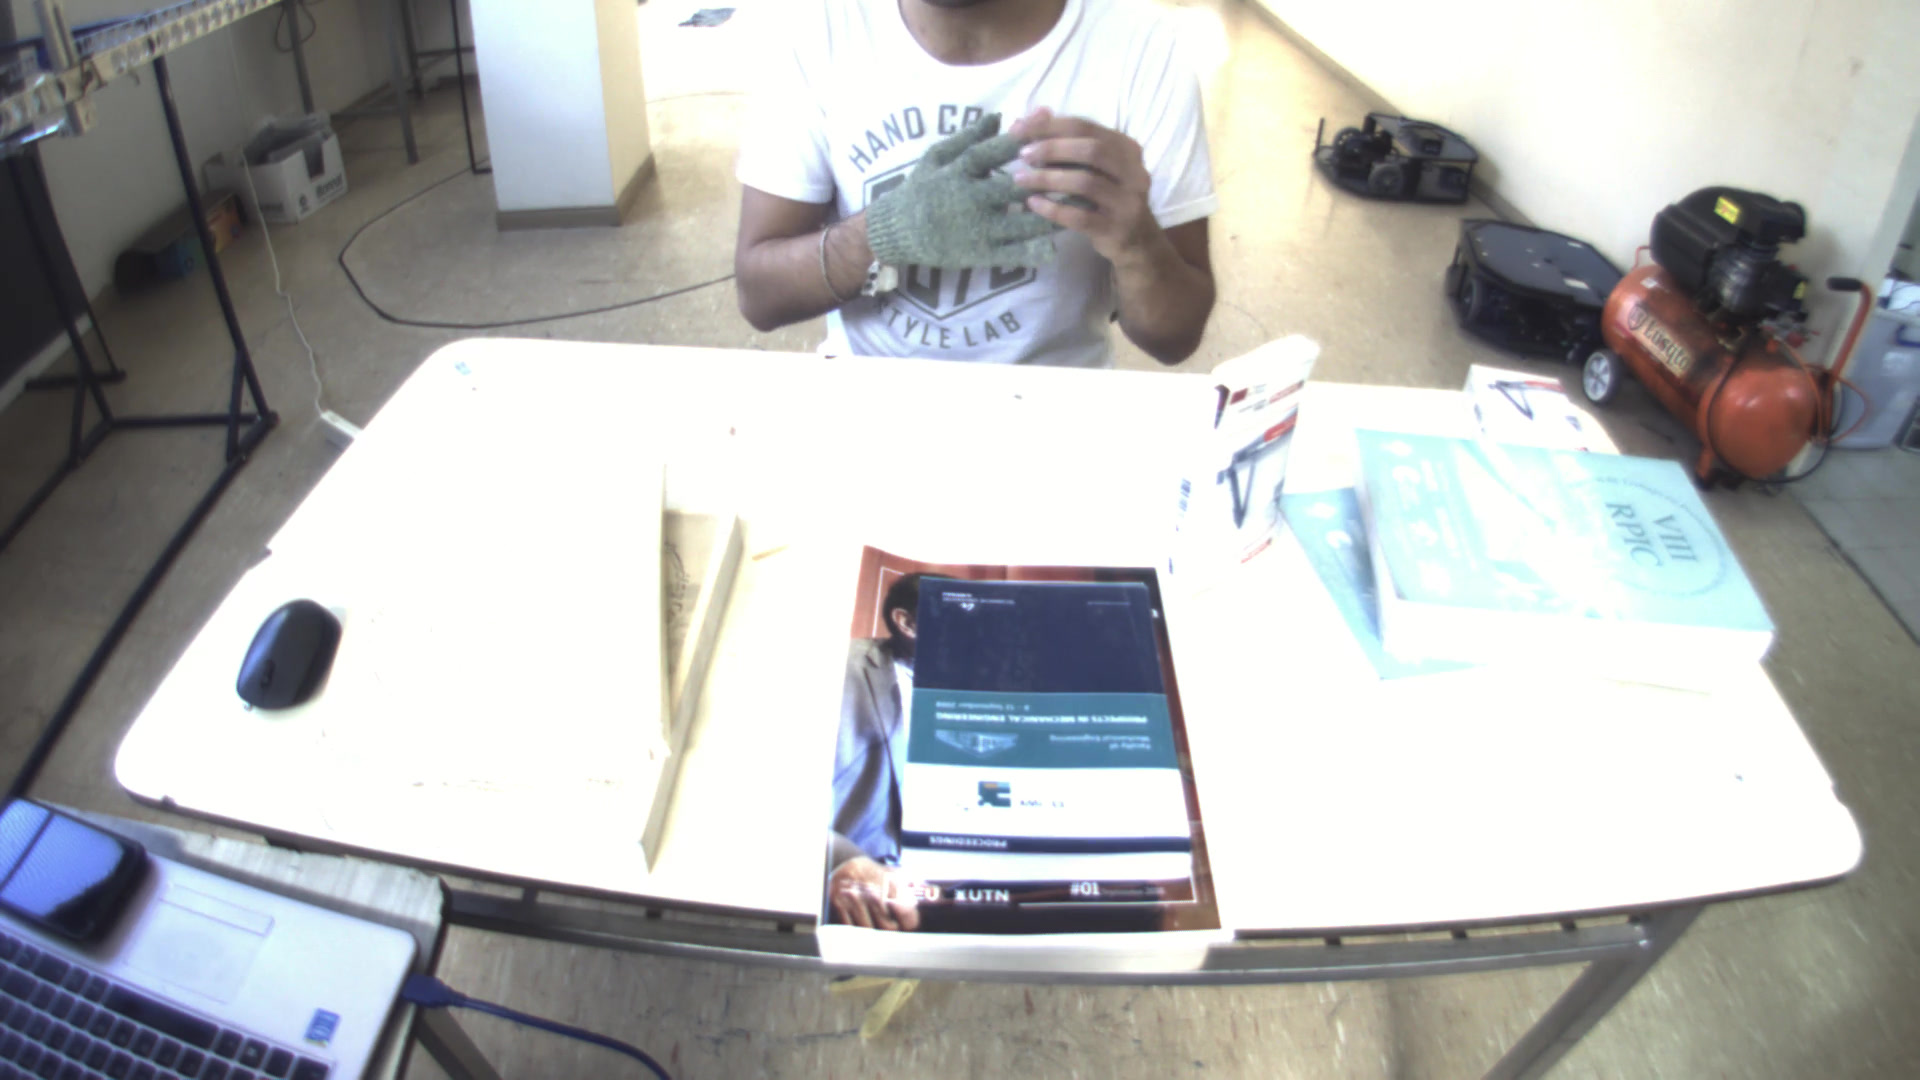hand: (855, 111, 1060, 280), (1009, 102, 1163, 251)
